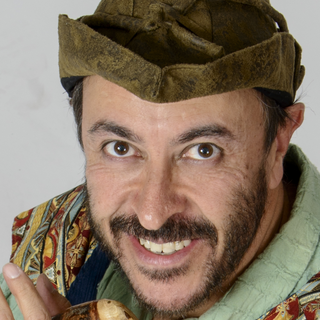eye: (95, 135, 147, 165), (176, 141, 225, 164)
